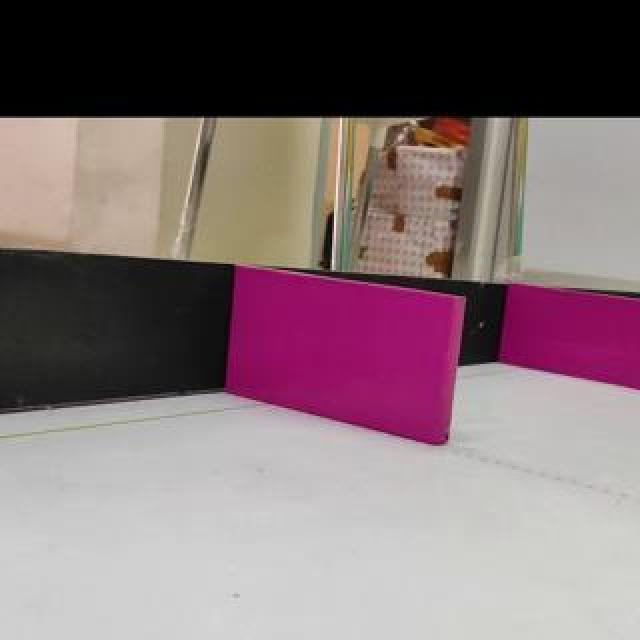xparking: (226, 265, 462, 446), (502, 285, 640, 391)
